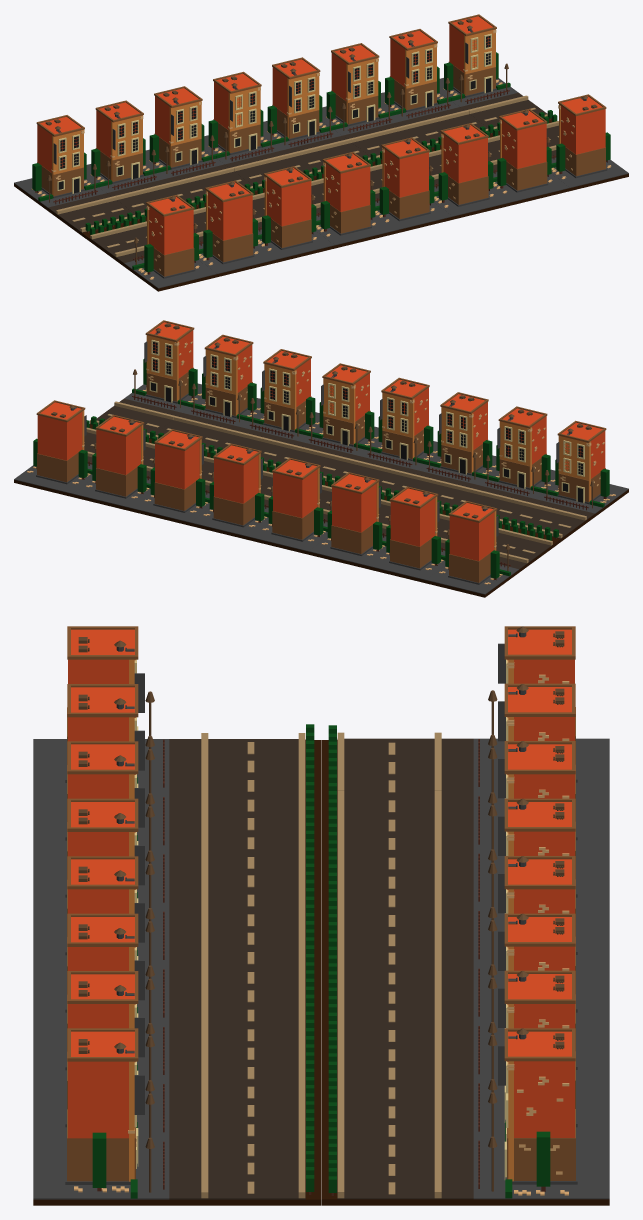
The model's file is gedungTololmaudirender.fbx.
The picture shows the model from 3 angles, top to bottom: view 1: azimuth 30°, elevation 25°; view 2: azimuth 150°, elevation 25°; view 3: azimuth 270°, elevation 25°; orthographic projection. The views are drawn at different scales.
Parts seen in each view (by area): view 1: Cube.003, Cube.641, Cube.001; view 2: Cube.003, Cube.641, Cube.001; view 3: Cube.003, Cube.001, Cube.641.
Part boxes in pixels (x1,y1,x2,y2): Cube.003: (86,94,628,291); Cube.641: (14,71,317,238); Cube.001: (263,14,552,178); Cube.003: (89,320,628,544); Cube.641: (249,458,556,597); Cube.001: (14,400,274,539); Cube.003: (33,626,321,1205); Cube.001: (321,856,609,1205); Cube.641: (321,626,609,969).
Bounding box in the file's own units: 31982 × 4576 × 16943.
